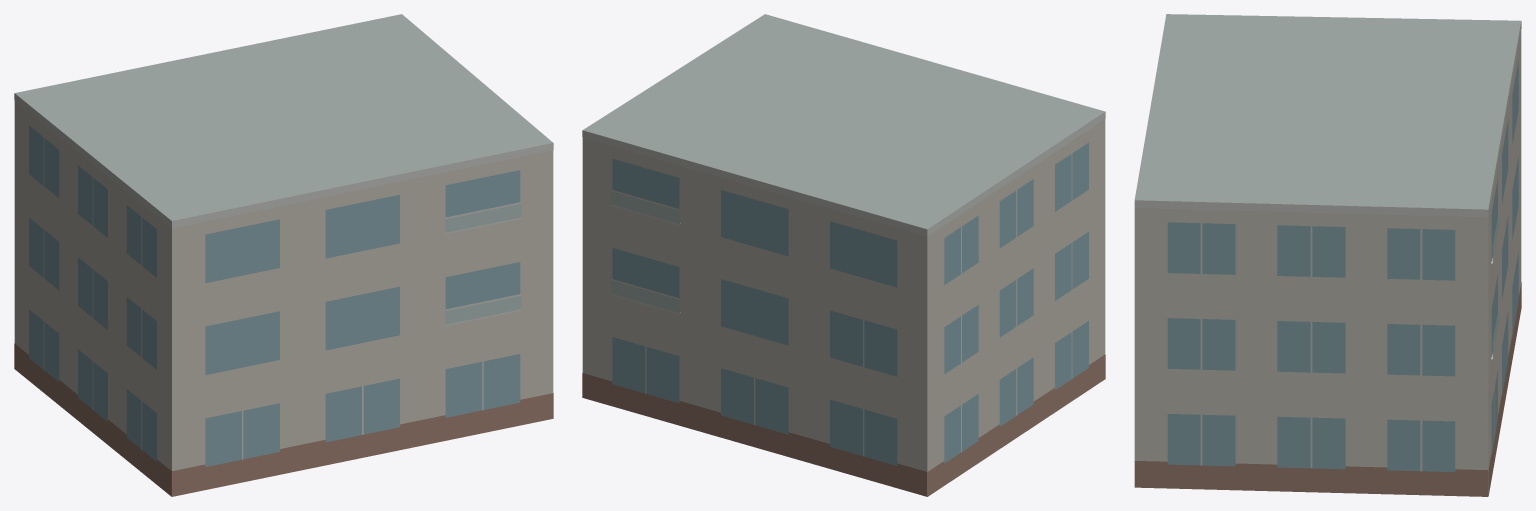
File: survey-upis-32735201.glb
3 renders of one model, left to right at view 1: azimuth 30°, elevation 25°; view 2: azimuth 150°, elevation 25°; view 3: azimuth 270°, elevation 25°, orthographic. The views are drawn at different scales.
Parts seen in each view (by area): view 1: survey-upis-32735201.tmp; view 2: survey-upis-32735201.tmp; view 3: survey-upis-32735201.tmp.
Boxes of the visible parts, x1,y1,x2,y2 form: survey-upis-32735201.tmp: (14,14,553,496); survey-upis-32735201.tmp: (582,14,1105,496); survey-upis-32735201.tmp: (1134,14,1521,496).
Size of the model in its own units: 13.37 by 9.15 by 11.18.
